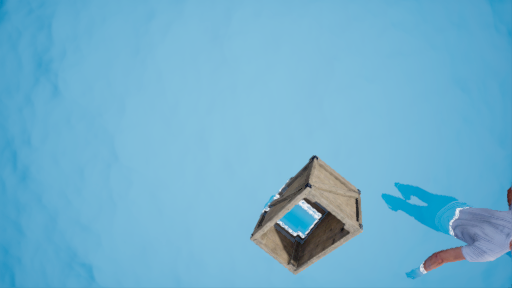person: (388, 182, 512, 274)
